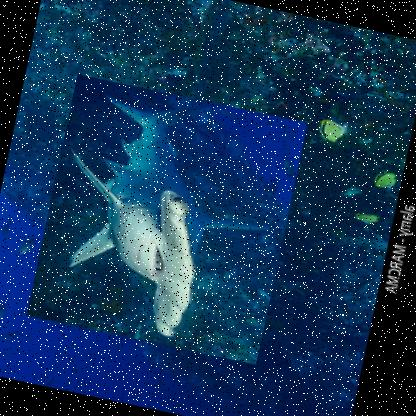hammerhead_Shark: (24, 74, 306, 366)
